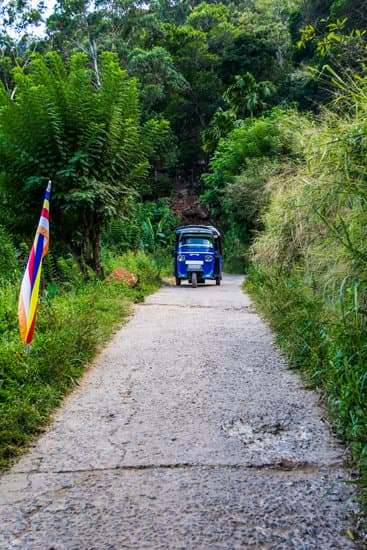threewheel: (173, 225, 222, 287)
